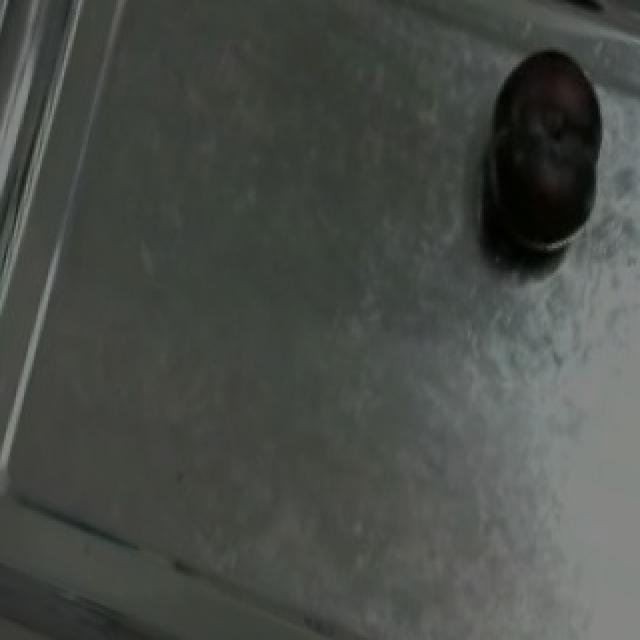Fruit: (478, 30, 618, 248)
